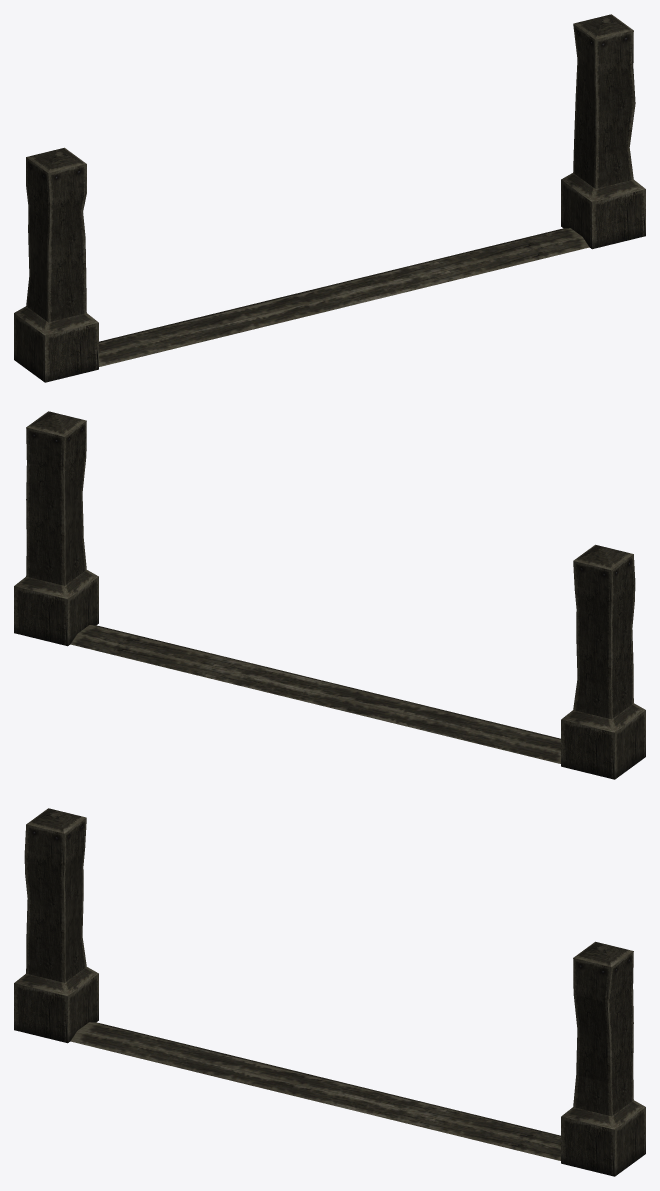
File: welder_top.dae
The picture shows the model from 3 angles, top to bottom: view 1: azimuth 30°, elevation 25°; view 2: azimuth 150°, elevation 25°; view 3: azimuth 330°, elevation 25°; orthographic projection.
Parts seen in each view (by area): view 1: polySurface2; view 2: polySurface2; view 3: polySurface2.
Part boxes in pixels (left/top/right/bottom): polySurface2: left=14, top=14, right=645, bottom=382; polySurface2: left=14, top=411, right=645, bottom=779; polySurface2: left=14, top=808, right=645, bottom=1176.
Bounding box in the file's own units: 4.39 × 1.5 × 0.394.
